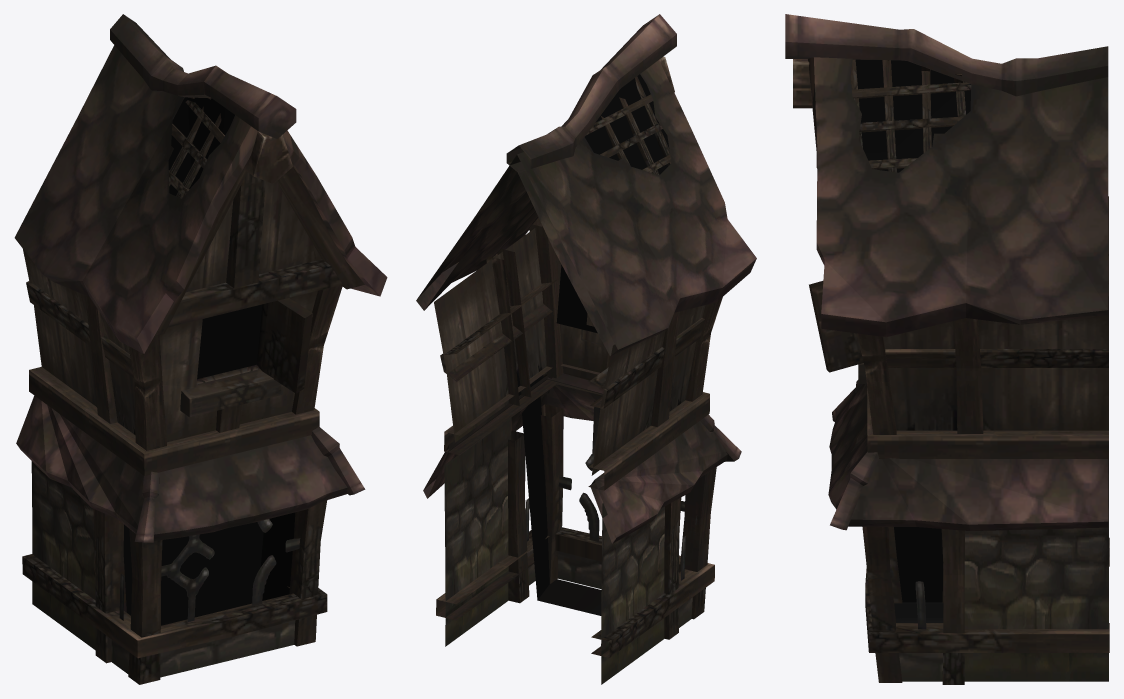
Rendered from mod_building_damaged_01_b.fbx.
3 renders of one model, left to right at view 1: azimuth 30°, elevation 25°; view 2: azimuth 150°, elevation 25°; view 3: azimuth 270°, elevation 25°, orthographic. The views are drawn at different scales.
Parts seen in each view (by area): view 1: obj1.094; view 2: obj1.094; view 3: obj1.094.
Part boxes in pixels (x1,y1,x2,y2): obj1.094: [14, 14, 387, 684]; obj1.094: [416, 14, 756, 684]; obj1.094: [785, 14, 1109, 684].
Size of the model in its own units: 5.54 by 12.67 by 5.94.
